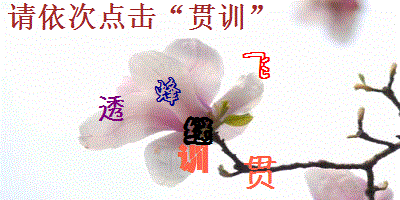result: (188, 2, 247, 33)
text: (242, 155, 279, 191), (176, 142, 212, 177), (181, 115, 215, 149), (241, 49, 272, 82), (96, 93, 126, 123), (153, 76, 182, 106)
